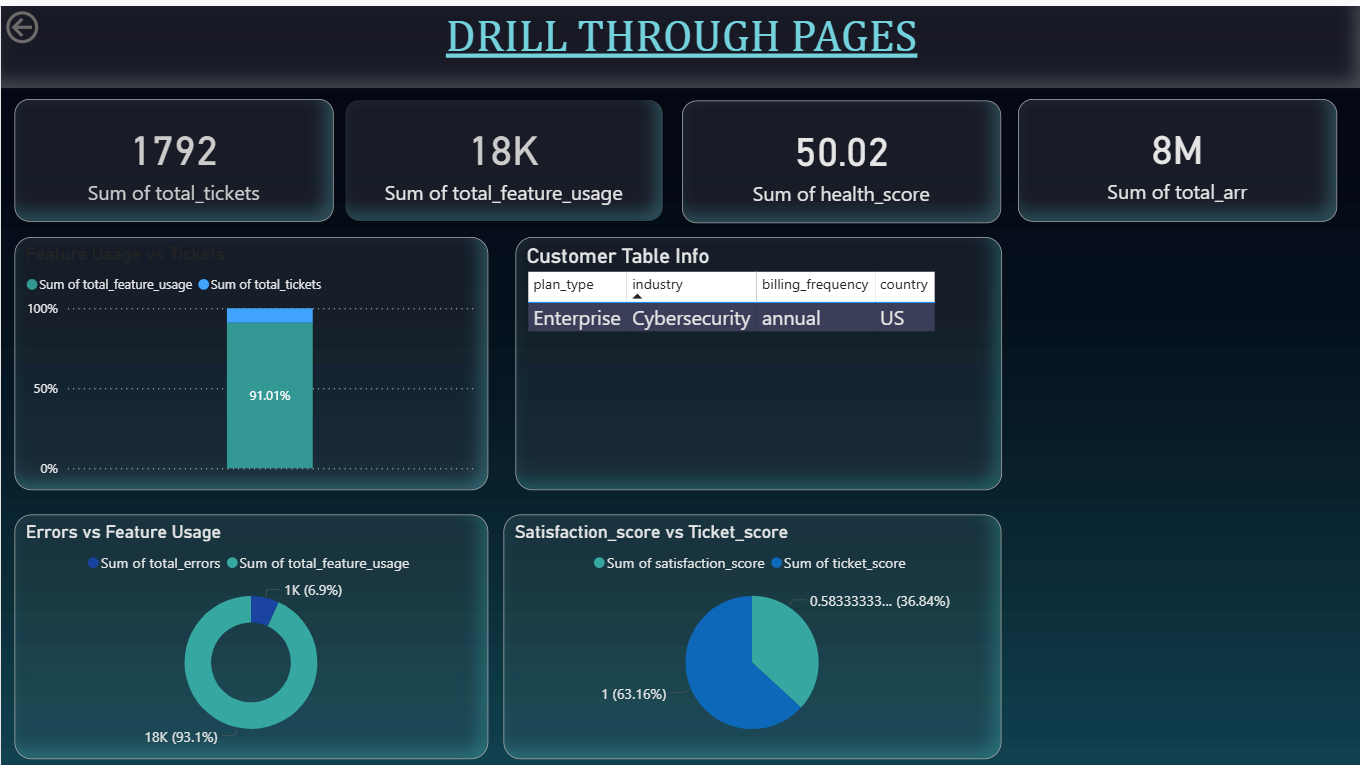

What the dashboard file says about the page in this screenshot:
{"tool":"powerbi","page":{"name":"Drill_through","canvas":[1280,720],"ordinal":3},"visuals":[{"type":"actionButton","box":[0,0,100,40],"z":0},{"type":"card","fields":{"Values":["Sum(final_saas_dataset.total_tickets)"]},"box":[12.1,87.8,300,115.1],"z":1000},{"type":"card","fields":{"Values":["Sum(final_saas_dataset.total_feature_usage)"]},"box":[322.5,87.8,299.8,115.1],"z":2000},{"type":"card","fields":{"Values":["Sum(final_saas_dataset.total_arr)"]},"box":[956.1,87.9,300,115],"z":3000},{"type":"card","fields":{"Values":["Sum(final_saas_dataset.health_score)"]},"box":[640.5,89.3,299.8,115.1],"z":4000},{"type":"hundredPercentStackedColumnChart","title":"Feature Usage vs Tickets","fields":{"Y":["Sum(final_saas_dataset.total_feature_usage)","Sum(final_saas_dataset.total_tickets)"]},"box":[12.1,216.5,445.2,237.7],"z":5000},{"type":"donutChart","title":"Errors vs Feature Usage","fields":{"Y":["Sum(final_saas_dataset.total_errors)","Sum(final_saas_dataset.total_feature_usage)"]},"box":[12.1,478.5,445.2,230.2],"z":6000},{"type":"tableEx","title":"Customer Table Info","fields":{"Values":["final_saas_dataset.plan_type","final_saas_dataset.industry","final_saas_dataset.billing_frequency","final_saas_dataset.country"]},"box":[483,216.5,457.3,237.7],"z":7000},{"type":"pieChart","title":"Satisfaction_score vs Ticket_score","fields":{"Y":["Sum(final_saas_dataset.satisfaction_score)","Sum(final_saas_dataset.ticket_score)"]},"box":[472.4,478.5,467.9,230.2],"z":8000},{"type":"textbox","box":[0,0,1279.5,77.2],"z":9000}]}

Visuals, with their boxes in screenshot pixels (x1, y1, x2, y2), scaled from the page's 1280x720 canvas onto the 1360x765 screenshot:
actionButton: 0 0 106 42
card - Sum(final_saas_dataset.total_tickets): 13 93 332 216
card - Sum(final_saas_dataset.total_feature_usage): 343 93 661 216
card - Sum(final_saas_dataset.total_arr): 1016 93 1335 216
card - Sum(final_saas_dataset.health_score): 681 95 999 217
"Feature Usage vs Tickets" hundredPercentStackedColumnChart: 13 230 486 483
"Errors vs Feature Usage" donutChart: 13 508 486 753
"Customer Table Info" tableEx: 513 230 999 483
"Satisfaction_score vs Ticket_score" pieChart: 502 508 999 753
textbox: 0 0 1359 82
